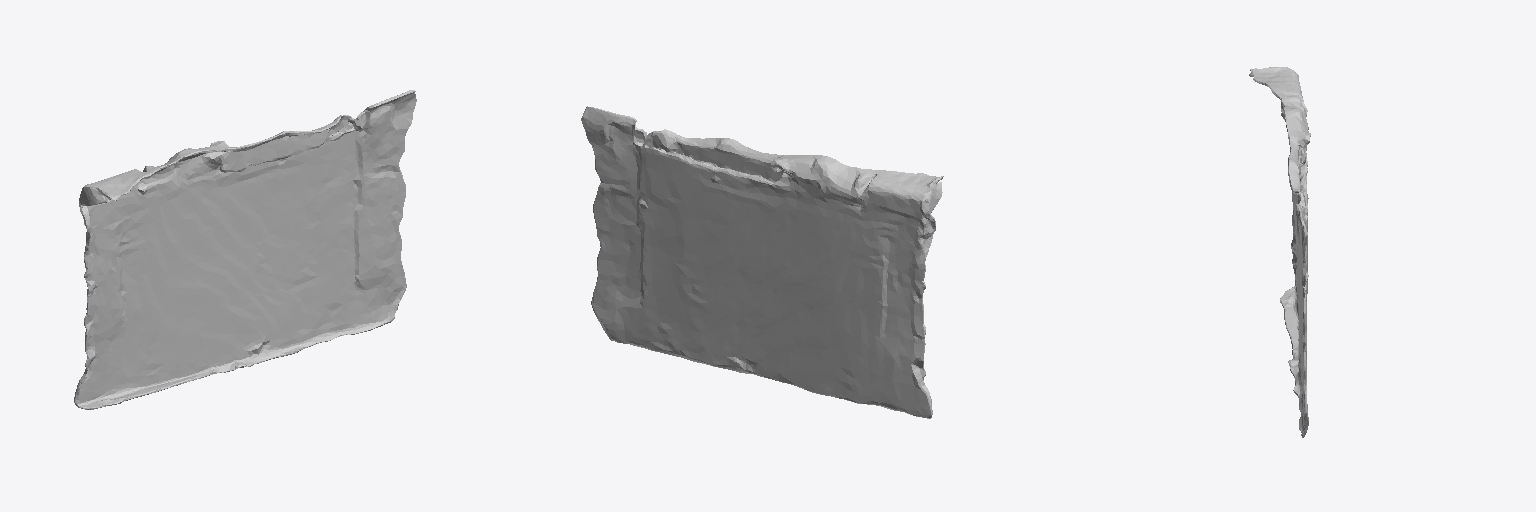
File: burnpaper.obj
3 views of the same model, side by side, from view 1: azimuth 30°, elevation 25°; view 2: azimuth 150°, elevation 25°; view 3: azimuth 270°, elevation 25° (orthographic).
Parts seen in each view (by area): view 1: model; view 2: model; view 3: model.
Boxes of the visible parts, x1,y1,x2,y2 form: model: [74, 90, 416, 409]; model: [581, 106, 943, 418]; model: [1249, 67, 1310, 437].
Size of the model in its own units: 2 by 1.29 by 0.3118.